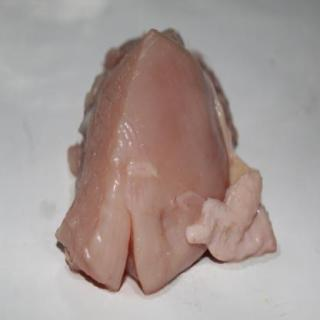Ayam: (63, 31, 279, 293)
